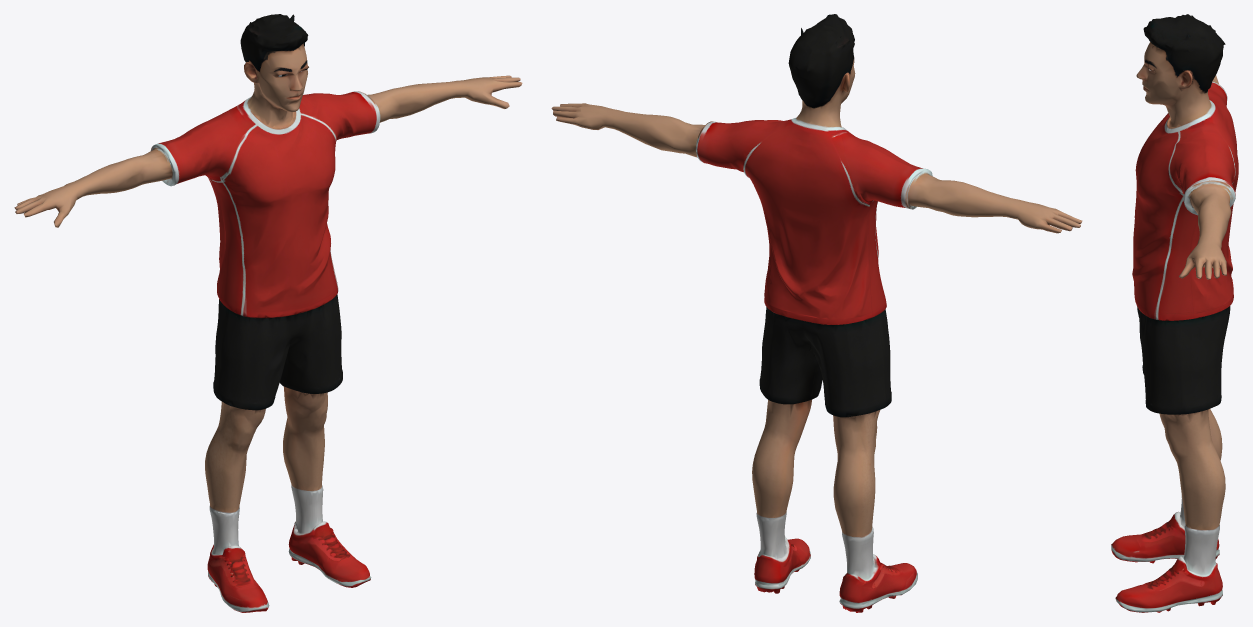
Rendered from player_r_upright.glb.
3 renders of one model, left to right at view 1: azimuth 30°, elevation 25°; view 2: azimuth 150°, elevation 25°; view 3: azimuth 270°, elevation 25°, orthographic.
Parts seen in each view (by area): view 1: tripo_node_054766b6-c18a-468a-9aec-0864e42bb2ee; view 2: tripo_node_054766b6-c18a-468a-9aec-0864e42bb2ee; view 3: tripo_node_054766b6-c18a-468a-9aec-0864e42bb2ee.
Part boxes in pixels (<box>): tripo_node_054766b6-c18a-468a-9aec-0864e42bb2ee: <box>14,14,522,612</box>; tripo_node_054766b6-c18a-468a-9aec-0864e42bb2ee: <box>551,14,1082,612</box>; tripo_node_054766b6-c18a-468a-9aec-0864e42bb2ee: <box>1111,14,1238,612</box>.
Size of the model in its own units: 0.9519 by 0.9949 by 0.204.
Materials: 1 (1 with a texture image).
